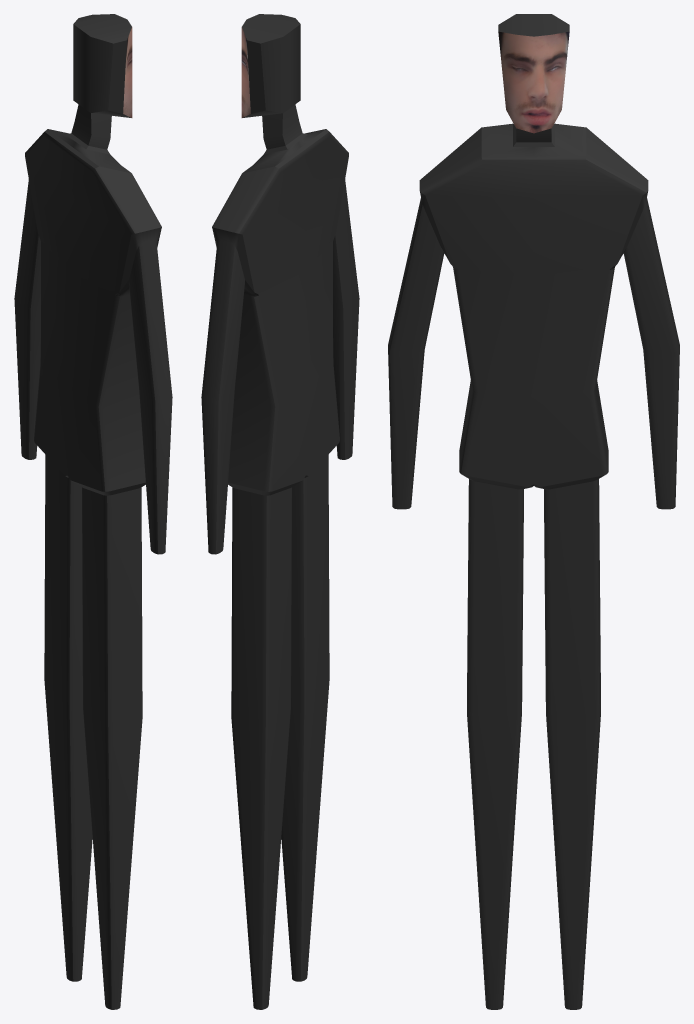
The model's file is wolf_dead.fbx.
The picture shows the model from 3 angles, left to right: view 1: azimuth 30°, elevation 25°; view 2: azimuth 150°, elevation 25°; view 3: azimuth 270°, elevation 25°; orthographic projection. The views are drawn at different scales.
Visible parts, largest first — view 1: wolf_dead; view 2: wolf_dead; view 3: wolf_dead.
Part boxes in pixels (x1,y1,x2,y2): wolf_dead: (14, 14, 172, 1009); wolf_dead: (201, 14, 359, 1009); wolf_dead: (388, 14, 679, 1009).
Bounding box in the file's own units: 0.7035 × 10.93 × 2.93.
